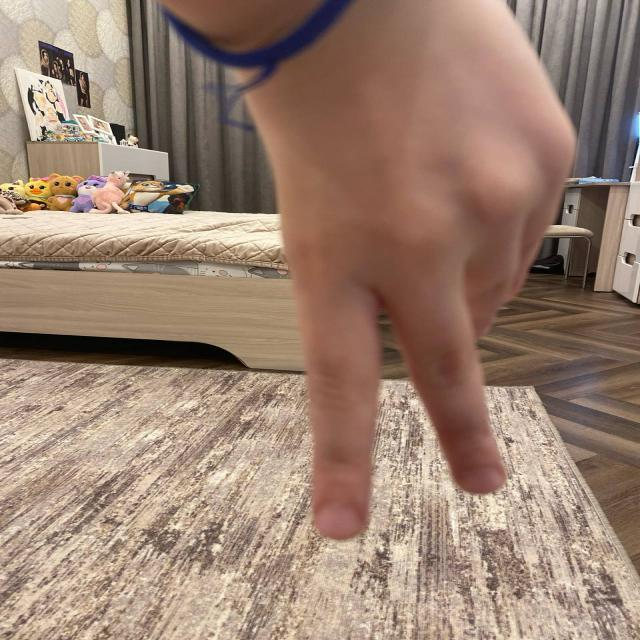l: (216, 124, 544, 578)
